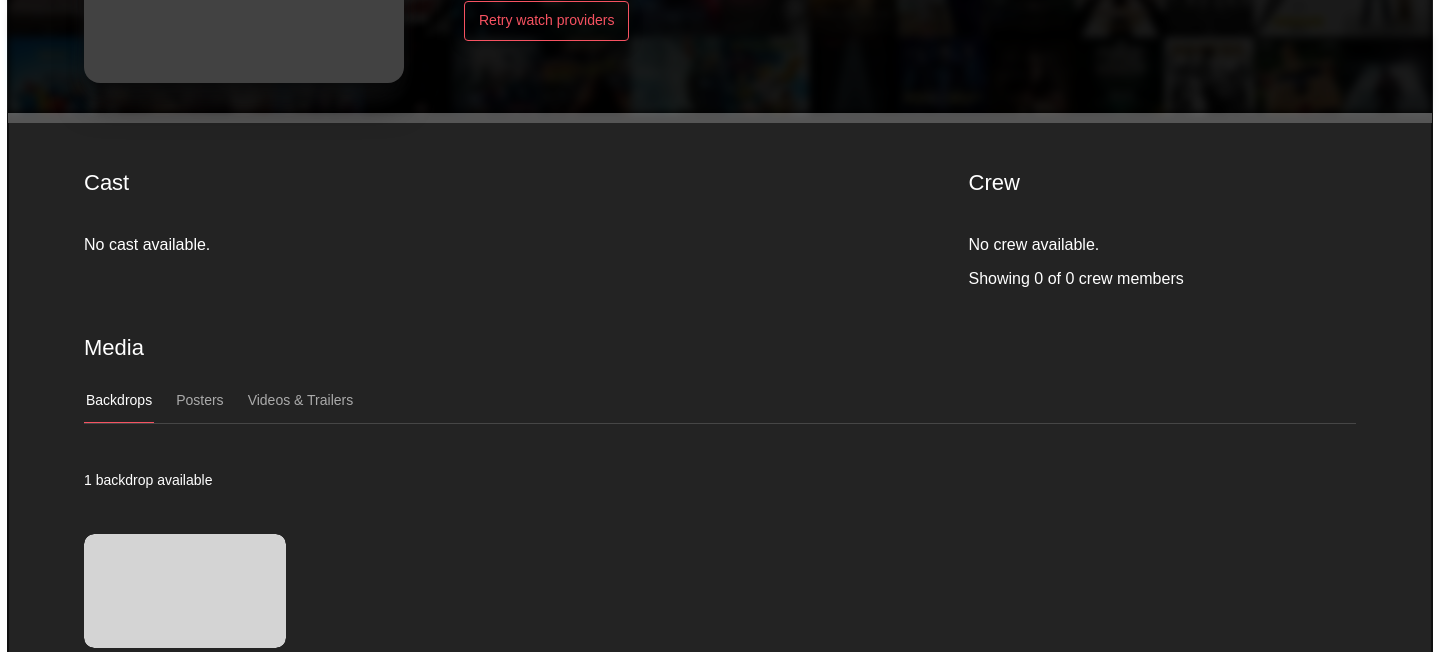
retries only posters while keeping successful media visible
(page scrolled)
Step 1. Click the tab "Posters" → (200, 401), box [174, 379, 226, 423]
(page scrolled)
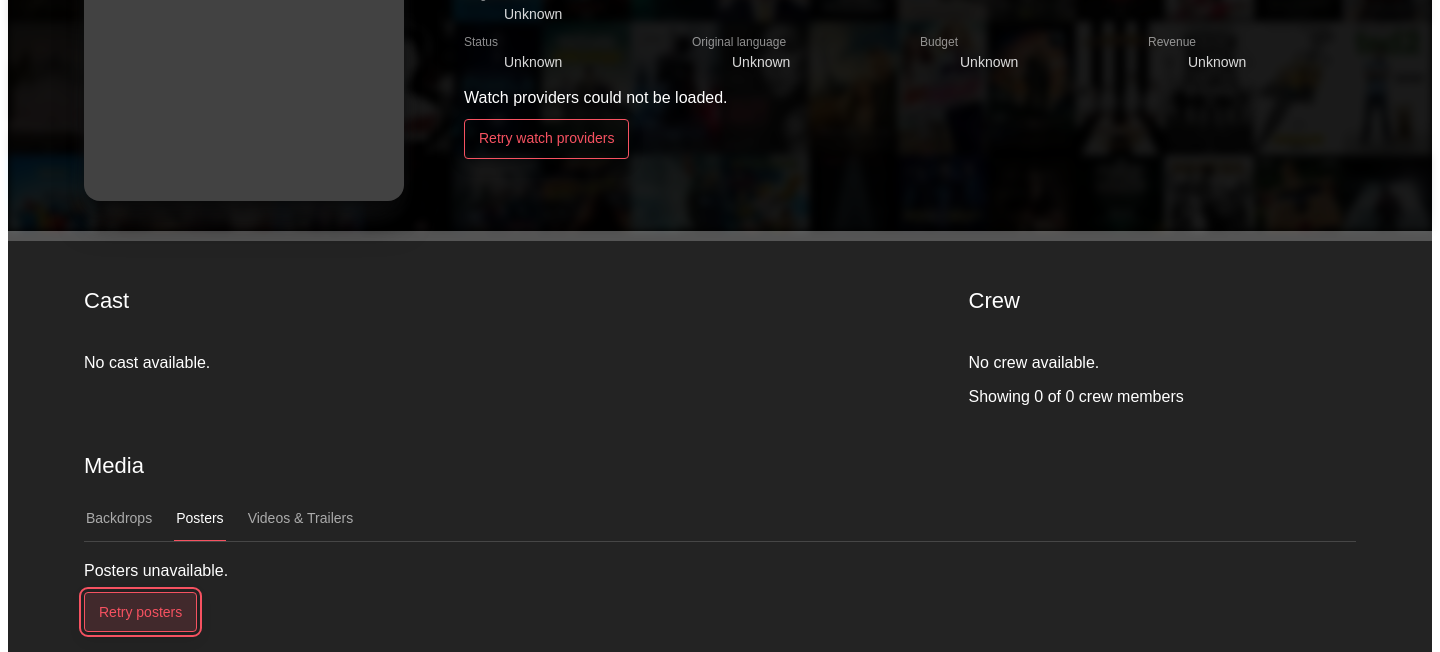
Step 2. Click the button "Retry posters" → (141, 612), box [84, 592, 197, 632]
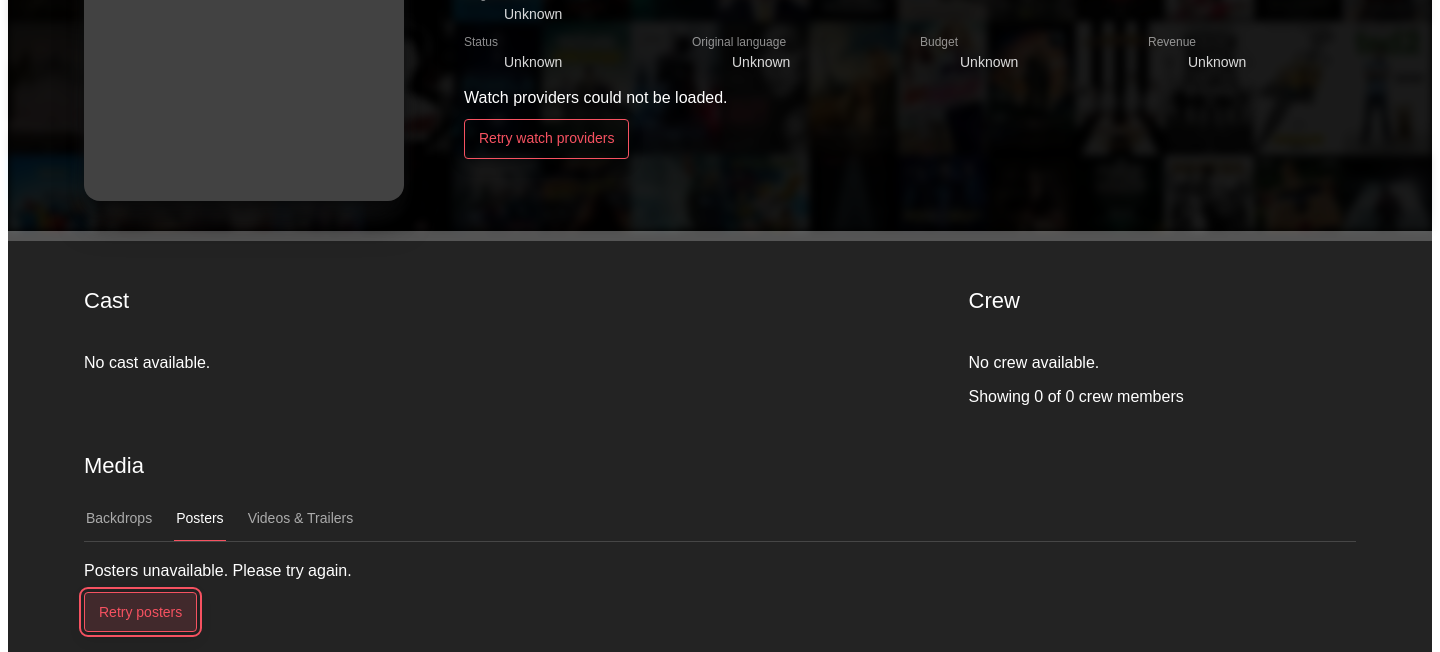
Step 3. Click the button "Retry posters" → (141, 612), box [84, 592, 197, 632]
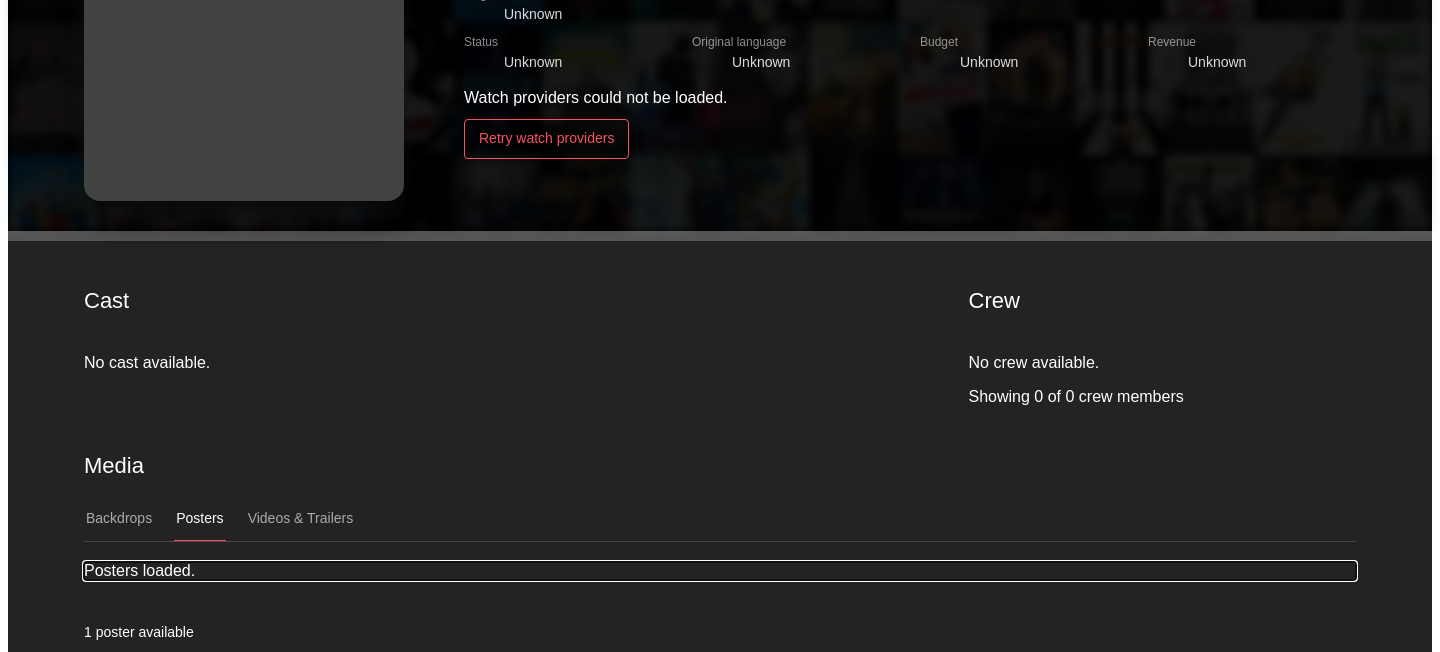
Step 4. Click the tab "Backdrops" → (119, 519), box [84, 497, 154, 541]
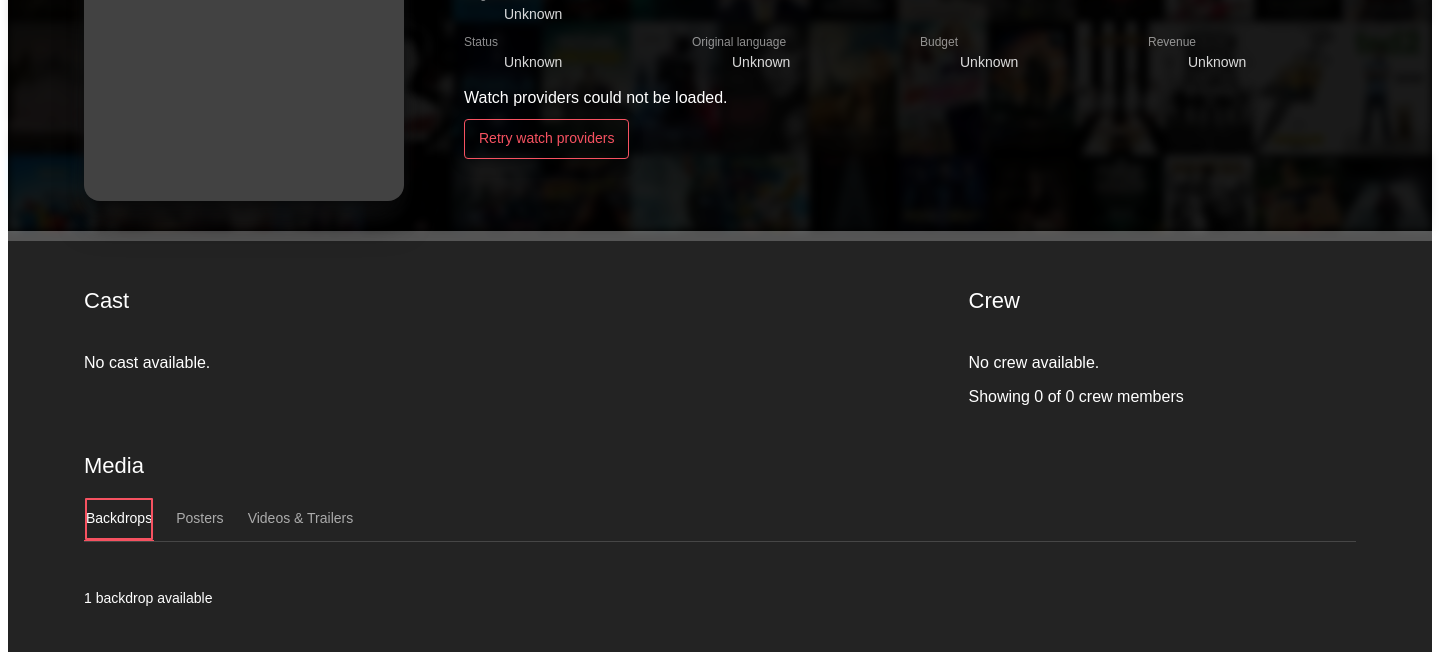
Step 5. Click the tab "Videos & Trailers" → (300, 519), box [246, 497, 355, 541]
(page scrolled)
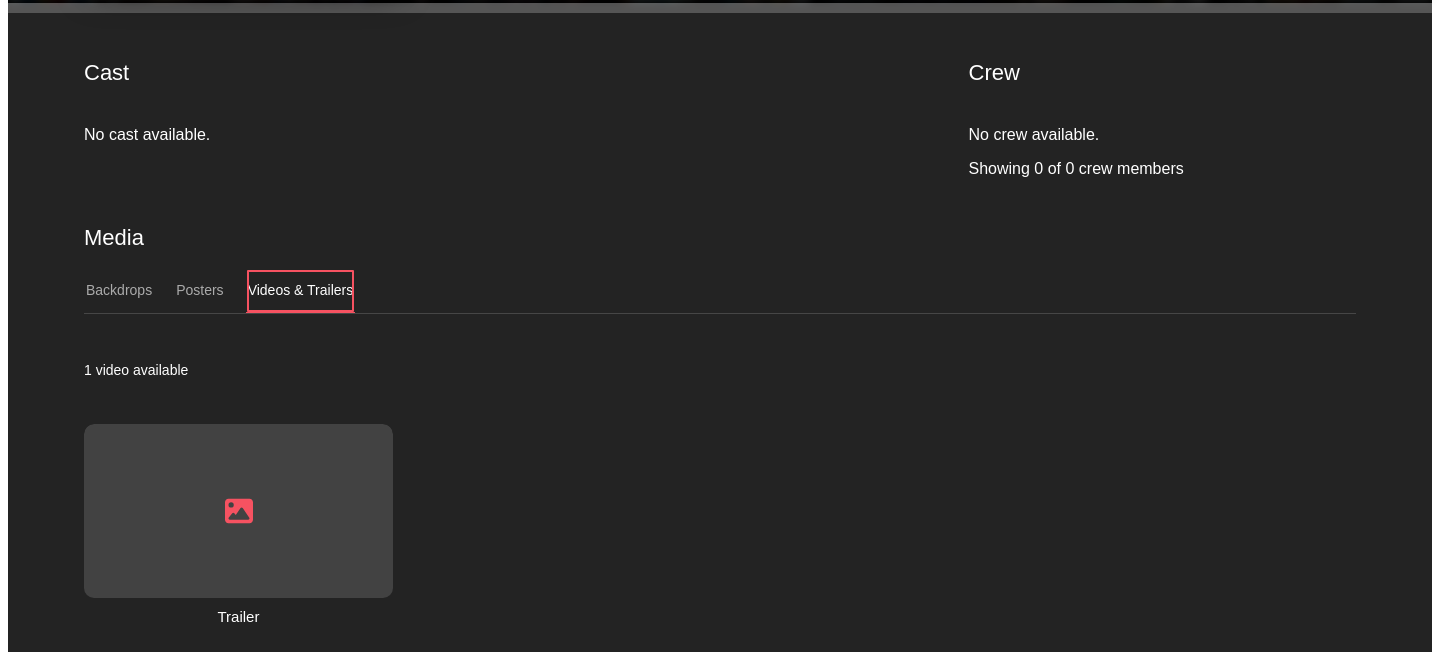
Check: the button with aria-label "Play Trailer" is shown, box [84, 424, 393, 648]
